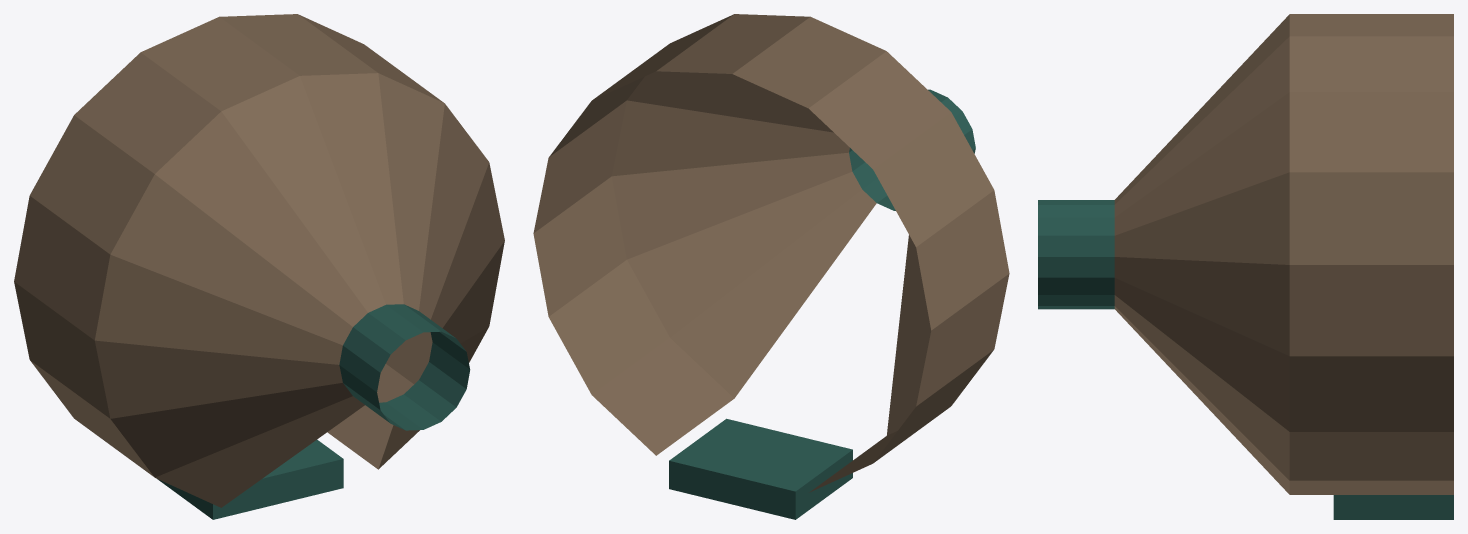
The model's file is SM_Kiln_Smelter.obj.
3 views of the same model, side by side, from view 1: azimuth 30°, elevation 25°; view 2: azimuth 150°, elevation 25°; view 3: azimuth 270°, elevation 25° (orthographic). The views are drawn at different scales.
Visible parts, largest first — view 1: Mudbrick, PatinaBronze; view 2: Mudbrick, PatinaBronze; view 3: Mudbrick, PatinaBronze.
Part boxes in pixels (x1=…): Mudbrick: x1=14, y1=14, x2=504, y2=507; PatinaBronze: x1=157, y1=304, x2=470, y2=519; Mudbrick: x1=533, y1=14, x2=1009, y2=492; PatinaBronze: x1=669, y1=89, x2=975, y2=519; Mudbrick: x1=1114, y1=14, x2=1453, y2=494; PatinaBronze: x1=1038, y1=200, x2=1453, y2=519.
Size of the model in its own units: 440 by 455 by 380.
